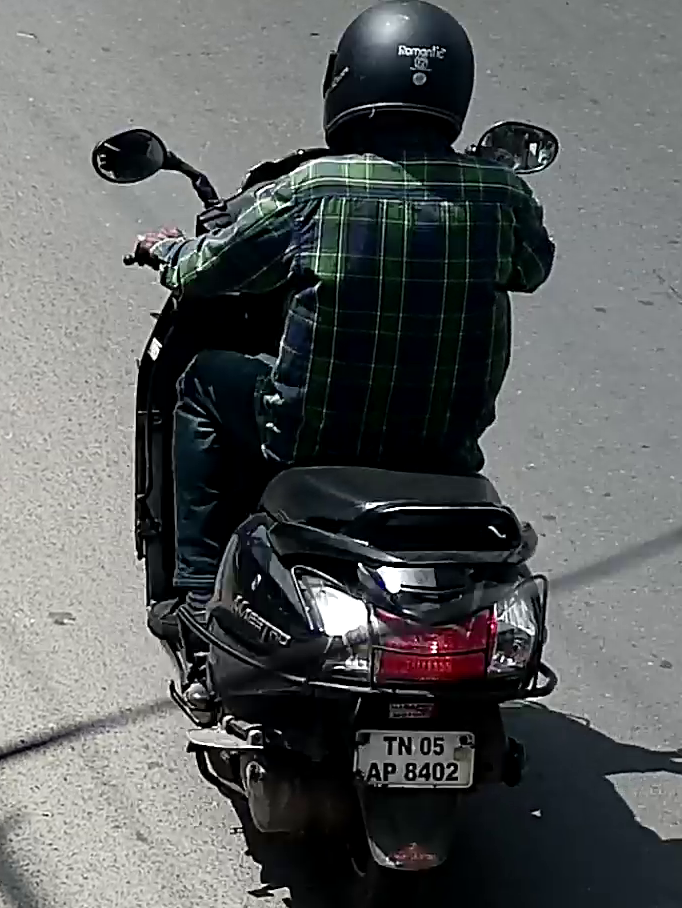0: (431, 761, 444, 782), (418, 737, 431, 755)
2: (445, 762, 458, 782)
4: (417, 762, 430, 782)
5: (432, 737, 444, 757)
8: (403, 761, 416, 781)
A: (365, 762, 380, 782)
N: (397, 736, 412, 756)
P: (382, 762, 395, 781)
P16: (352, 727, 476, 794)
T: (382, 735, 396, 755)
